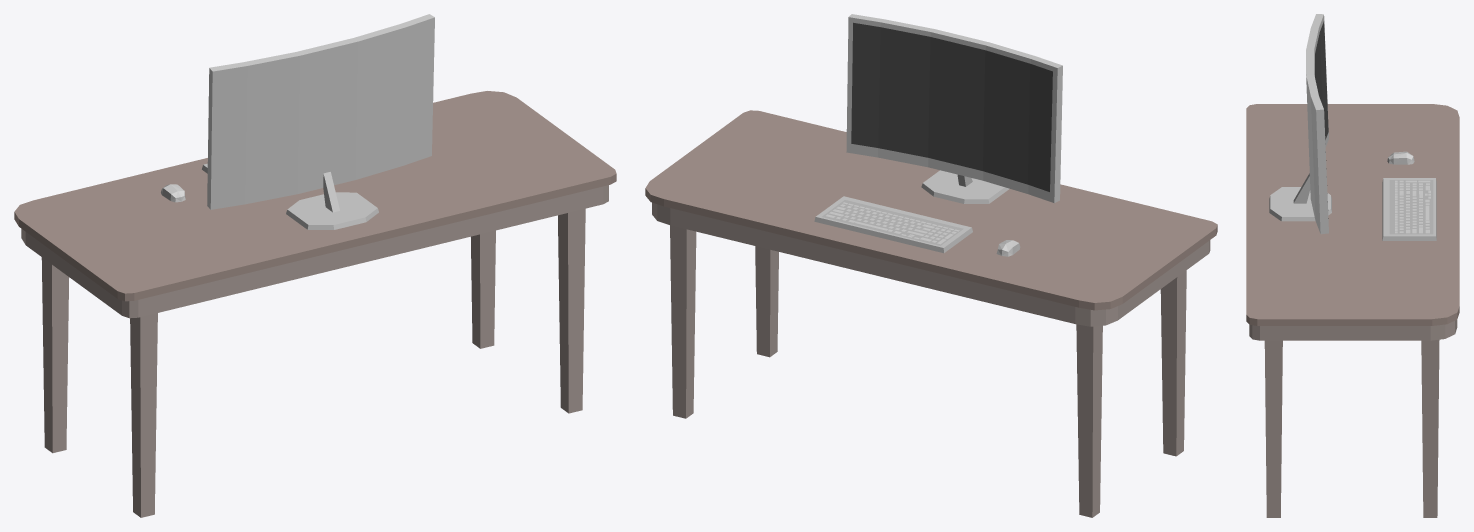
File: computer_desk.glb
The picture shows the model from 3 angles, left to right: view 1: azimuth 30°, elevation 25°; view 2: azimuth 150°, elevation 25°; view 3: azimuth 270°, elevation 25°; orthographic projection. The views are drawn at different scales.
Parts seen in each view (by area): view 1: furniture_048; view 2: furniture_048; view 3: furniture_048.
Part boxes in pixels (x1=…): furniture_048: x1=14, y1=14, x2=616, y2=517; furniture_048: x1=645, y1=14, x2=1217, y2=517; furniture_048: x1=1246, y1=14, x2=1459, y2=517.
Bounding box in the file's own units: 1.33 × 1.02 × 0.5552.
